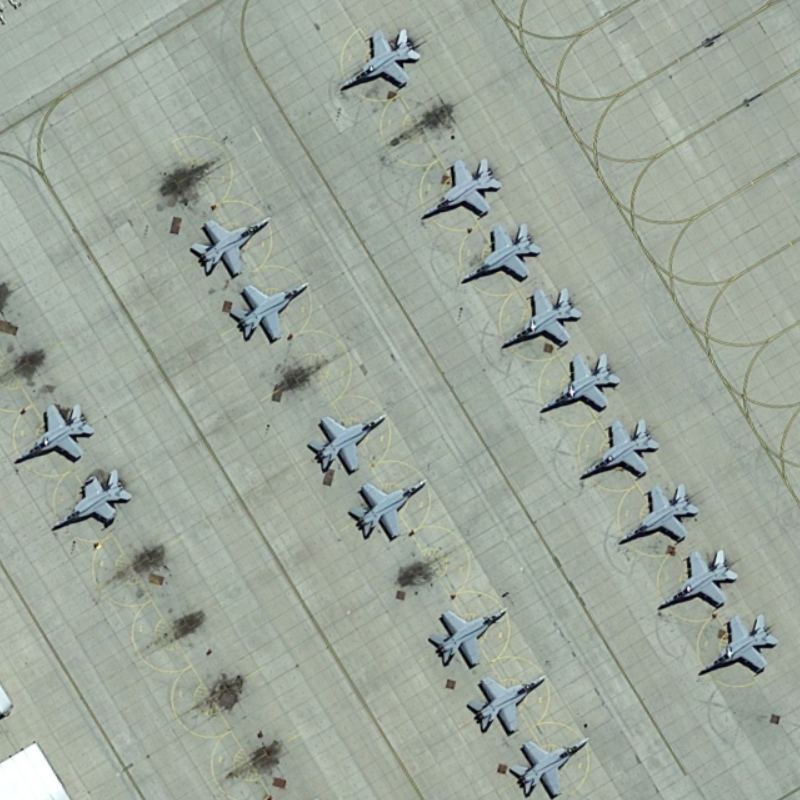A16: (692, 609, 782, 680), (225, 277, 314, 346), (334, 26, 425, 93), (422, 604, 513, 671), (183, 214, 275, 280), (536, 350, 624, 417), (305, 409, 390, 478), (463, 671, 550, 738), (456, 220, 544, 286), (653, 547, 742, 612), (496, 286, 586, 350), (48, 467, 136, 532), (575, 414, 662, 479), (505, 735, 591, 800), (419, 157, 503, 223), (616, 483, 700, 549), (12, 401, 97, 466), (344, 478, 430, 542)
